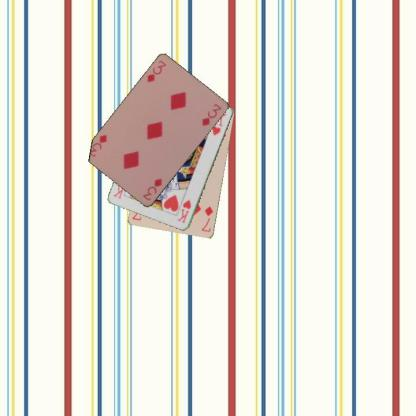3d: (144, 58, 168, 84), (140, 176, 163, 202)
7d: (199, 204, 214, 233)
Kh: (175, 198, 192, 224)
